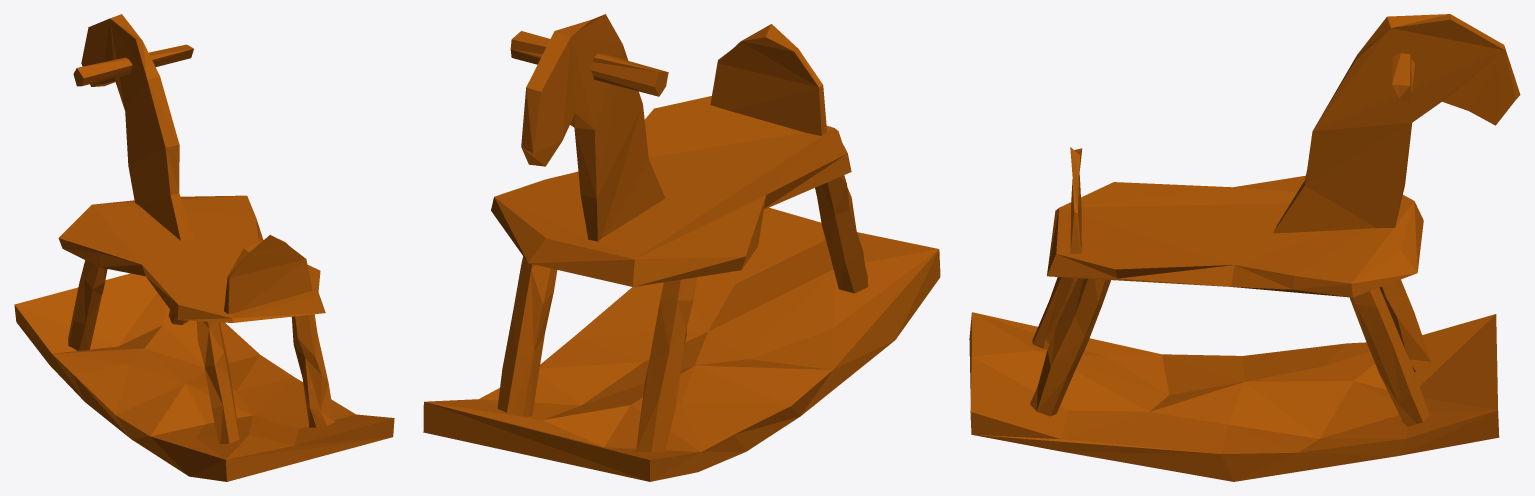
Rendered from stm_env_rocking_horse.fbx.
The picture shows the model from 3 angles, left to right: view 1: azimuth 30°, elevation 25°; view 2: azimuth 150°, elevation 25°; view 3: azimuth 270°, elevation 25°; orthographic projection. The views are drawn at different scales.
Visible parts, largest first — view 1: Cylinder; view 2: Cylinder; view 3: Cylinder.
Boxes of the visible parts, x1=… form: Cylinder: x1=14, y1=14, x2=394, y2=481; Cylinder: x1=423, y1=14, x2=940, y2=481; Cylinder: x1=969, y1=14, x2=1520, y2=481.
Size of the model in its own units: 151 by 256 by 308.
